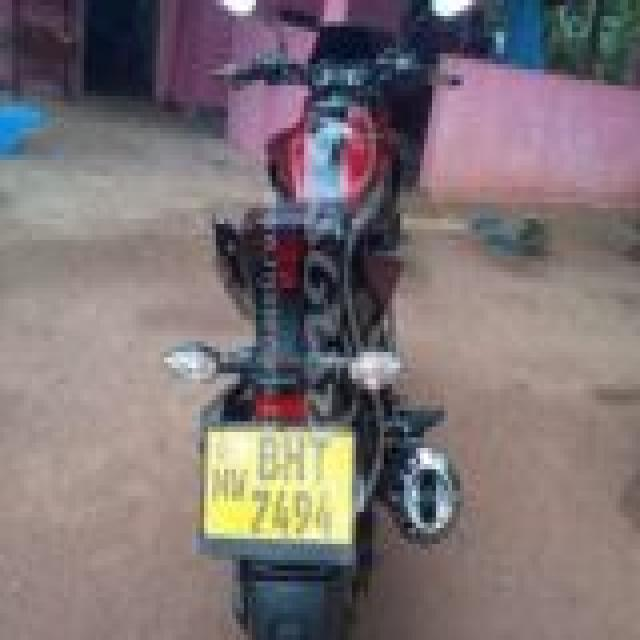motorbike: (176, 5, 464, 640)
